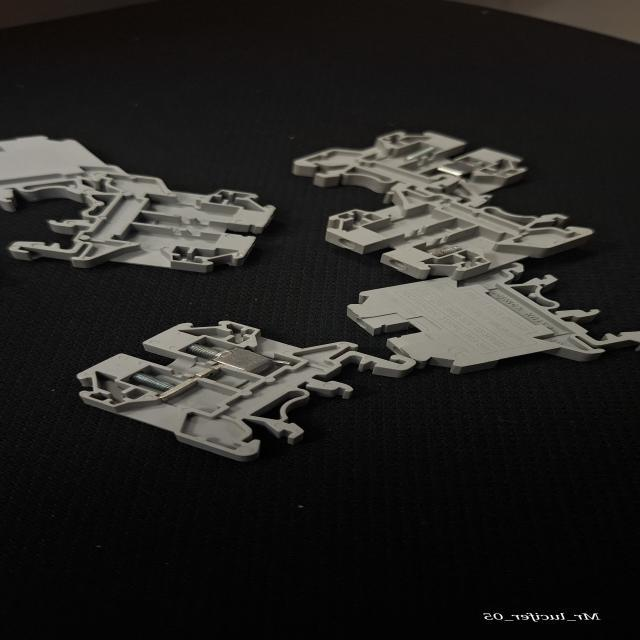Inverted: (338, 261, 640, 372)
Reject: (69, 316, 422, 458), (322, 176, 598, 275), (3, 174, 278, 272), (286, 128, 528, 195)
